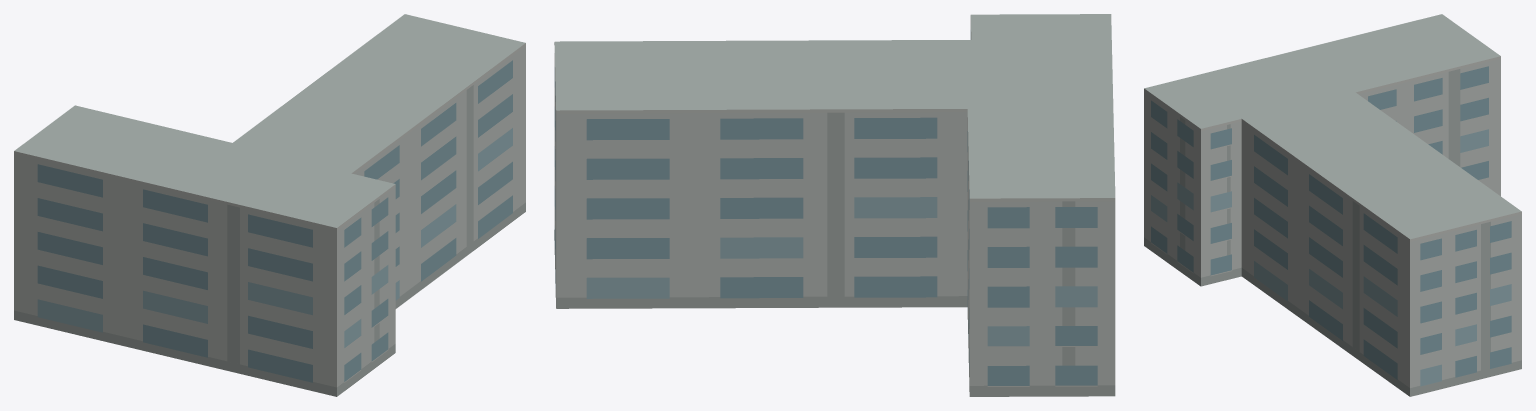
Rendered from residential-c765b427-6376-4848-9bbf-d222757a539b.glb.
3 views of the same model, side by side, from view 1: azimuth 30°, elevation 25°; view 2: azimuth 150°, elevation 25°; view 3: azimuth 270°, elevation 25° (orthographic). The views are drawn at different scales.
Parts seen in each view (by area): view 1: residential-c765b427-6376-4848-9bbf-d222757a539b.tmp; view 2: residential-c765b427-6376-4848-9bbf-d222757a539b.tmp; view 3: residential-c765b427-6376-4848-9bbf-d222757a539b.tmp.
Boxes of the visible parts, x1,y1,x2,y2 form: residential-c765b427-6376-4848-9bbf-d222757a539b.tmp: (14,14,525,396); residential-c765b427-6376-4848-9bbf-d222757a539b.tmp: (554,14,1115,396); residential-c765b427-6376-4848-9bbf-d222757a539b.tmp: (1144,14,1521,396).
Size of the model in its own units: 46.76 by 15.25 by 33.13.
